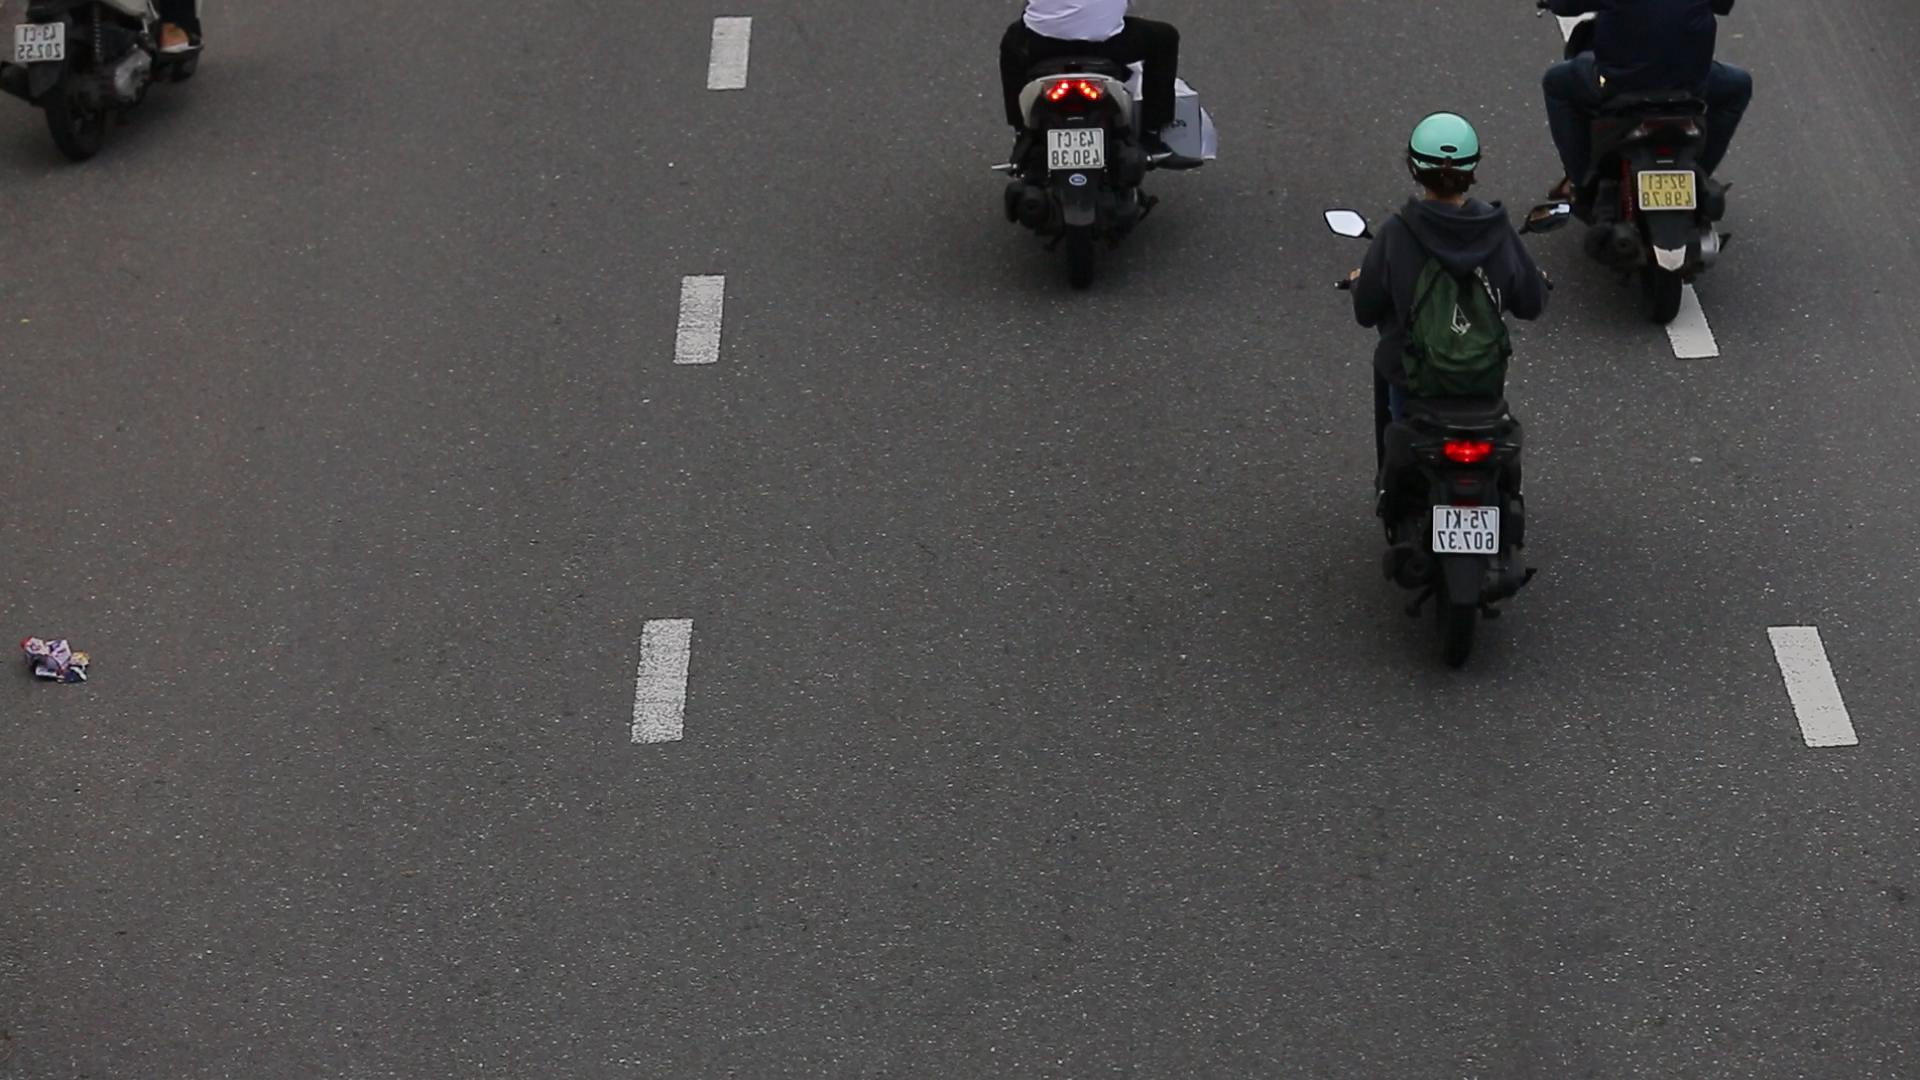motobike: (1313, 91, 1577, 682)
